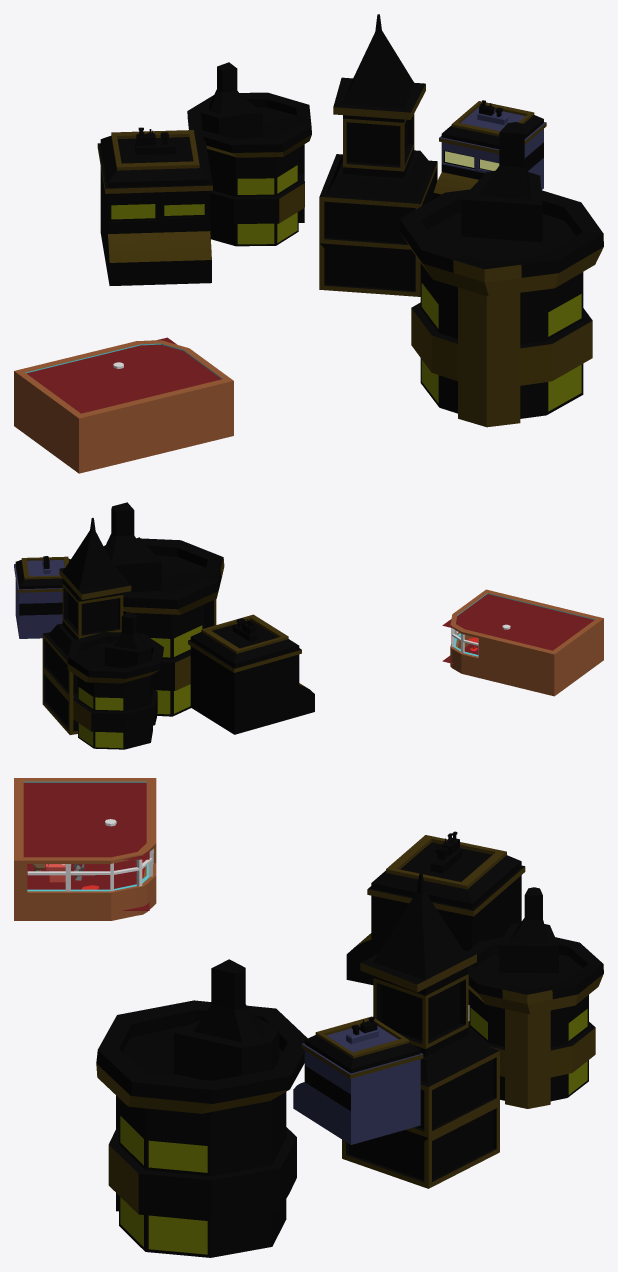
File: room.glb
3 views of the same model, one above another, from view 1: azimuth 30°, elevation 25°; view 2: azimuth 150°, elevation 25°; view 3: azimuth 270°, elevation 25° (orthographic). The views are drawn at different scales.
Parts seen in each view (by area): view 1: Building.001, TowerBuilding, Buildind, Building.002, Walls, Roof, Buildind.001; view 2: Building.001, Buildind, Building.002, TowerBuilding, Walls, Roof, Buildind.001; view 3: Building.001, TowerBuilding, Building.002, Buildind, Buildind.001, Roof, Walls, Floor, Window.
Part boxes in pixels (<box>): Building.001: <box>399,122,603,427</box>; TowerBuilding: <box>319,14,437,296</box>; Buildind: <box>97,127,212,285</box>; Building.002: <box>187,62,311,246</box>; Walls: <box>14,340,233,473</box>; Roof: <box>26,337,221,413</box>; Buildind.001: <box>433,100,546,198</box>; Building.001: <box>103,502,224,716</box>; Buildind: <box>188,614,314,734</box>; Building.002: <box>67,612,163,749</box>; TowerBuilding: <box>42,518,131,734</box>; Walls: <box>450,589,603,696</box>; Roof: <box>442,594,594,650</box>; Buildind.001: <box>14,556,70,638</box>; Building.001: <box>96,959,307,1257</box>; TowerBuilding: <box>342,873,499,1188</box>; Building.002: <box>468,887,603,1108</box>; Buildind: <box>346,831,525,1004</box>; Buildind.001: <box>293,1016,423,1144</box>; Roof: <box>23,782,149,859</box>; Walls: <box>14,778,156,920</box>; Floor: <box>27,859,149,910</box>; Window: <box>27,849,153,891</box>.
Bounding box in the file's own units: 89.52 × 42.25 × 67.27.
Materials: 35 (1 with a texture image).
